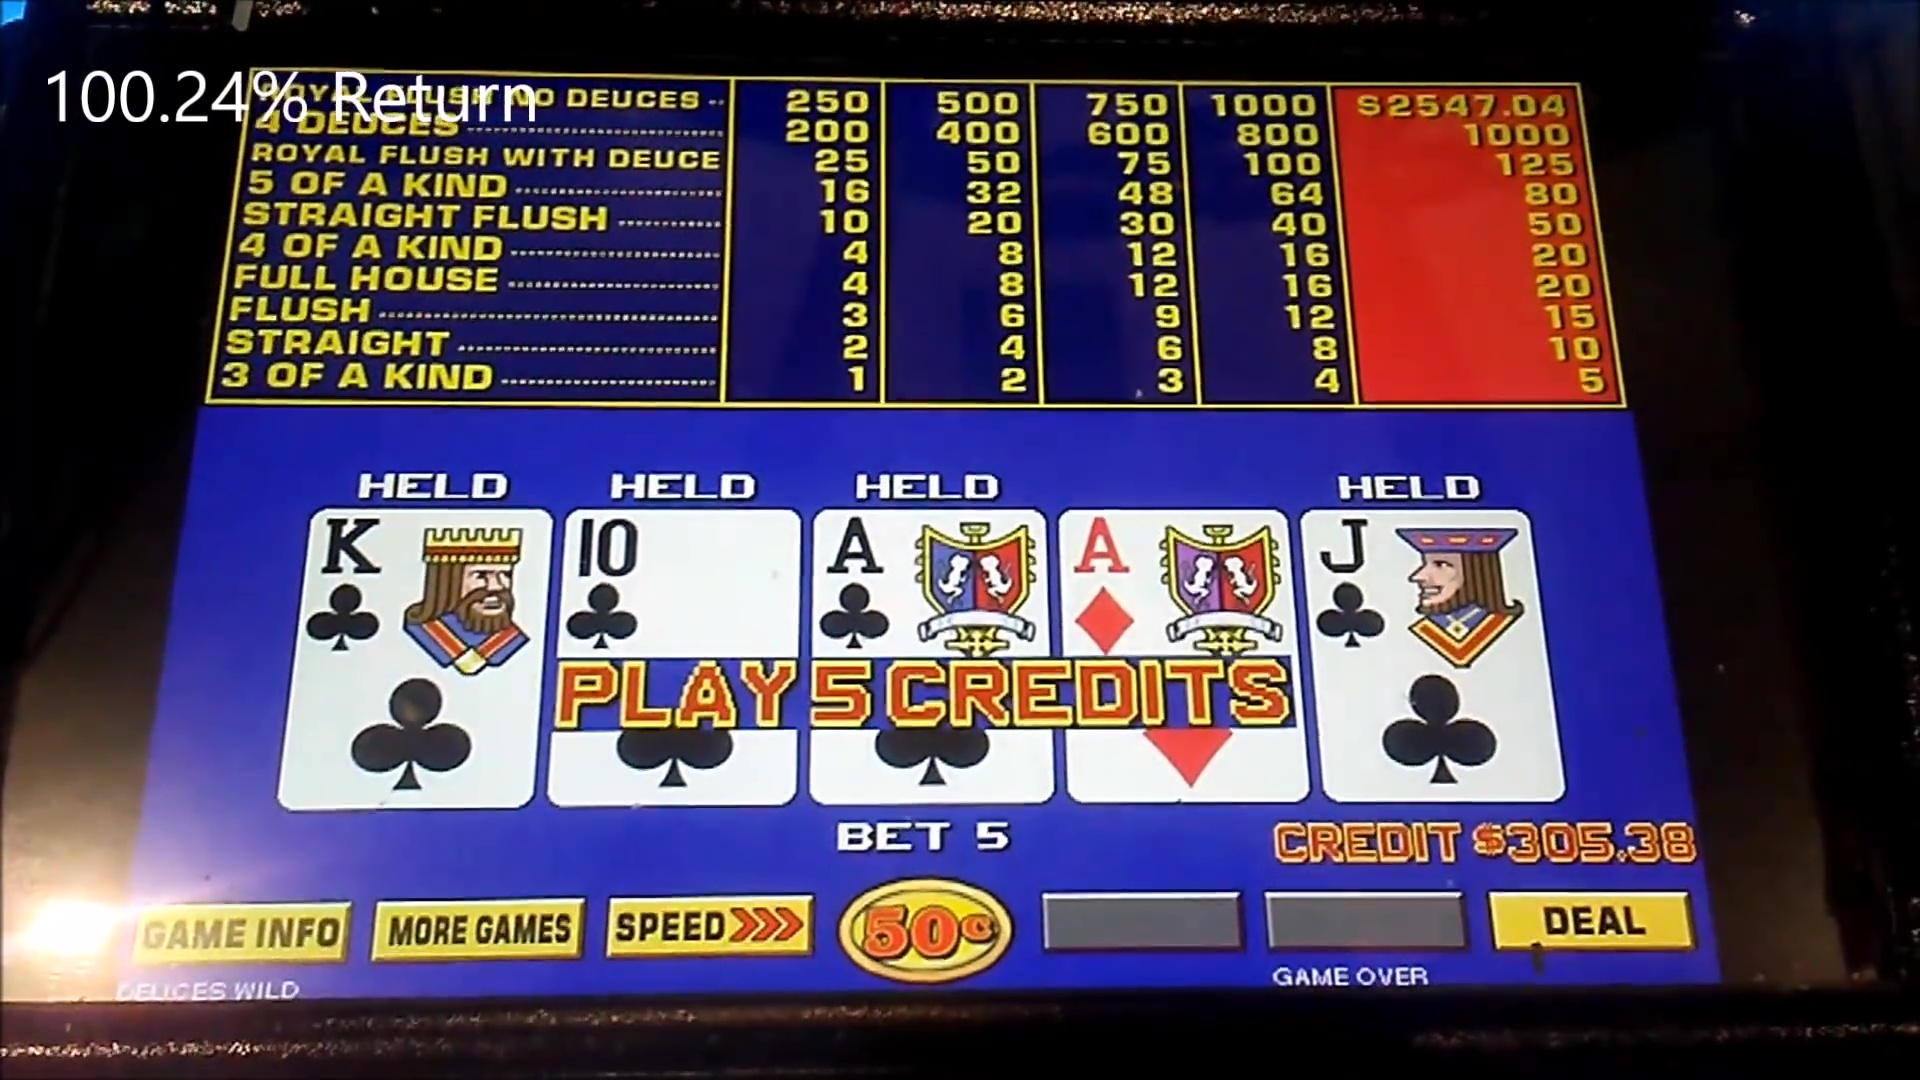AC: (822, 512, 1042, 651)
AD: (1067, 516, 1288, 657)
JC: (1313, 513, 1524, 661)
KC: (316, 508, 527, 661)
TC: (570, 514, 793, 654)
